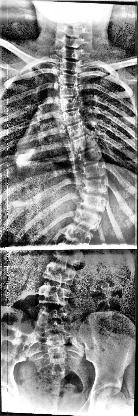Vertebrae: (42, 261, 78, 287), (36, 283, 72, 309), (54, 242, 85, 269), (64, 222, 94, 248), (72, 207, 104, 231), (79, 193, 110, 213), (81, 177, 111, 196), (82, 161, 110, 179), (72, 134, 96, 154), (57, 80, 80, 100), (78, 149, 102, 167), (58, 47, 86, 62), (66, 121, 89, 139), (59, 96, 81, 113), (59, 59, 82, 75), (57, 70, 80, 86), (62, 110, 82, 126)
